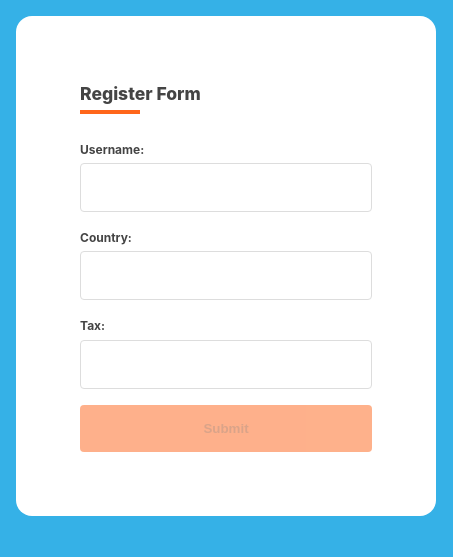
Test: Register Form › Country field › Should show error if country not filled
Type "Test" into the field named "country" below "Country:" at (226, 276), box [80,251,372,300]
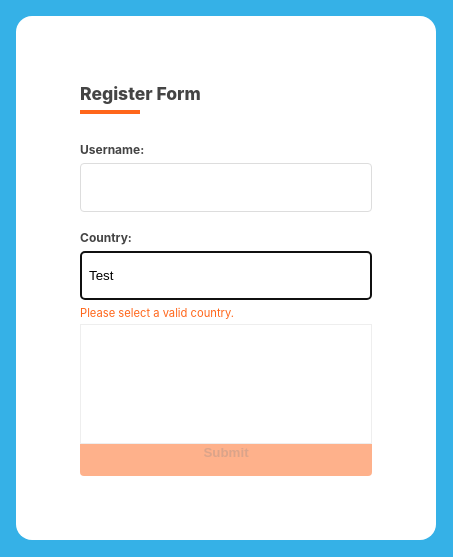
Clear the field named "country" below "Country:" at (226, 276), box [80,251,372,300]
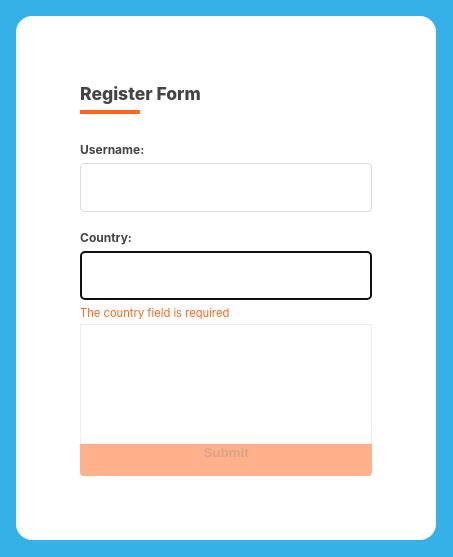
Expected: the text "The country field is required" is shown, [80,306,229,320]
